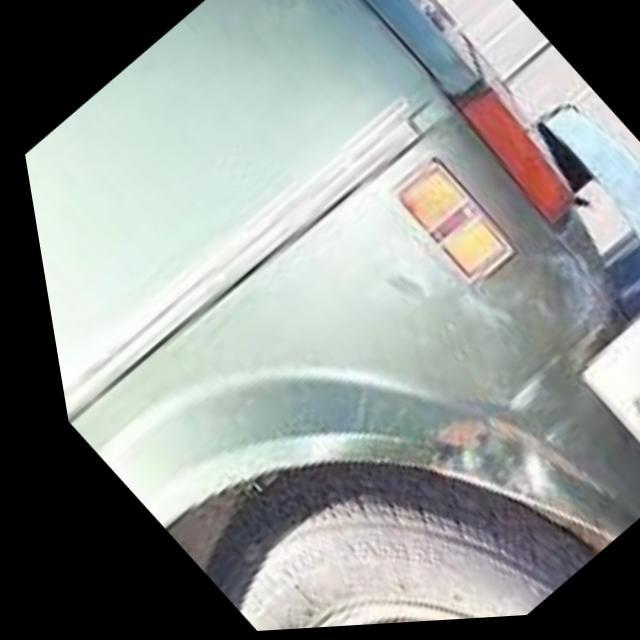rub: (339, 234, 614, 547)
